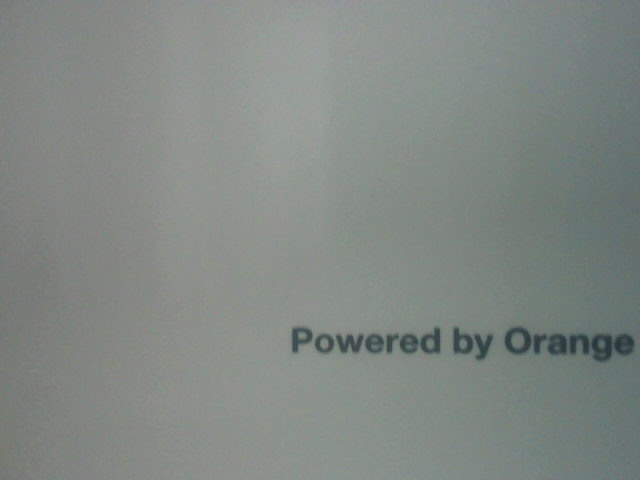AS_PowerByOrange: (268, 315, 635, 368)
